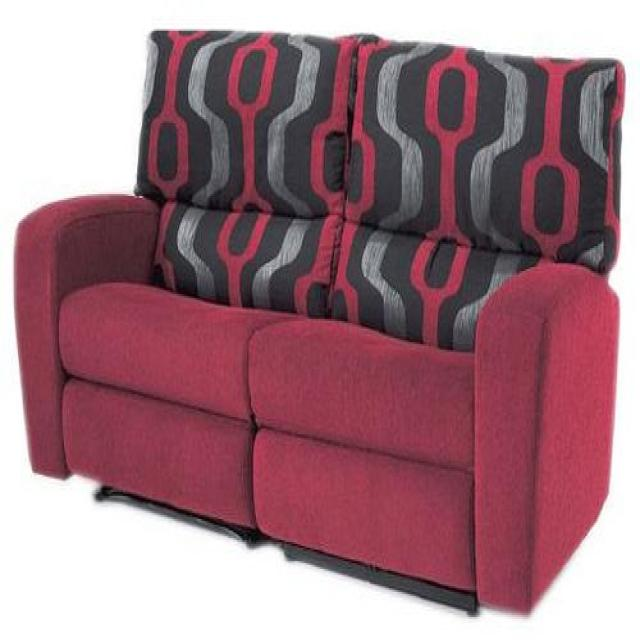sofa: (12, 29, 626, 619)
